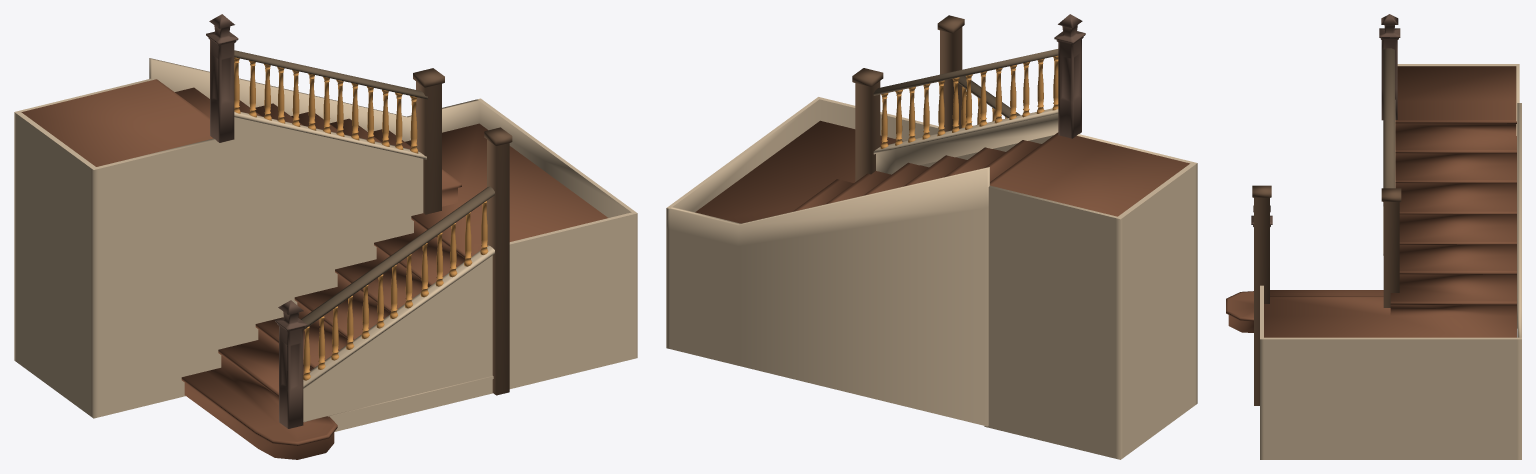
Rendered from ESCALERA_FULL2.dae.
The picture shows the model from 3 angles, left to right: view 1: azimuth 30°, elevation 25°; view 2: azimuth 150°, elevation 25°; view 3: azimuth 270°, elevation 25°; orthographic projection. The views are drawn at different scales.
Parts seen in each view (by area): view 1: Escaleras_001, Escalera_Full; view 2: Escaleras_001, Escalera_Full; view 3: Escalera_Full, Escaleras_001.
Part boxes in pixels (left/top/right/bottom): Escaleras_001: left=14, top=58, right=637, bottom=431; Escalera_Full: left=15, top=14, right=634, bottom=459; Escaleras_001: left=666, top=97, right=1197, bottom=459; Escalera_Full: left=695, top=14, right=1196, bottom=223; Escalera_Full: left=1226, top=14, right=1519, bottom=405; Escaleras_001: left=1260, top=66, right=1521, bottom=459.
Size of the model in its own units: 2.22 by 1.46 by 1.69.
